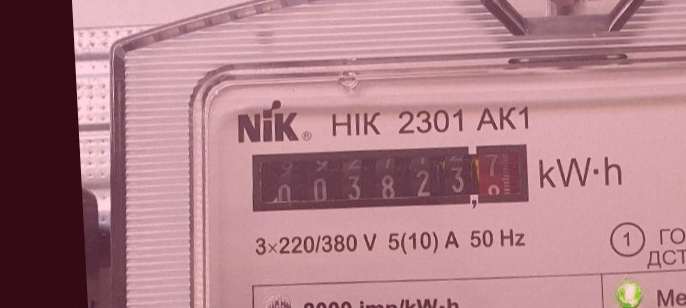0: (307, 173, 328, 201), (273, 179, 292, 203)
2: (412, 166, 432, 199)
3: (447, 163, 466, 194), (343, 170, 362, 200)
7: (483, 151, 501, 180)
8: (377, 171, 395, 199)
9: (274, 158, 293, 178)
screen: (242, 134, 533, 220)
